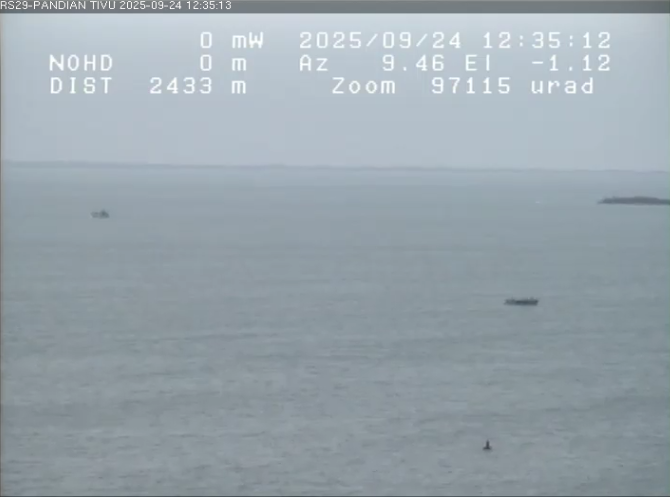BOUY: (477, 431, 504, 469)
FISHING_BOAT: (502, 290, 552, 319), (84, 203, 118, 229)
